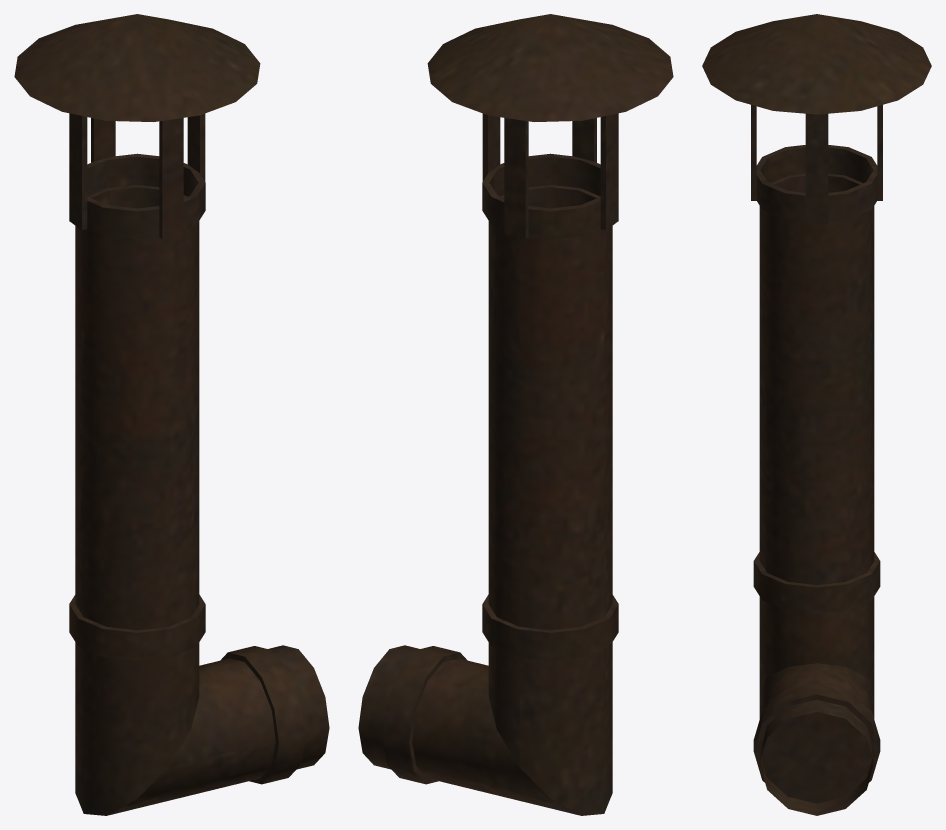
File: chimney_a_3.fbx
3 views of the same model, side by side, from view 1: azimuth 30°, elevation 25°; view 2: azimuth 150°, elevation 25°; view 3: azimuth 270°, elevation 25° (orthographic). The views are drawn at different scales.
Parts seen in each view (by area): view 1: chimney_a_3; view 2: chimney_a_3; view 3: chimney_a_3.
Boxes of the visible parts, x1,y1,x2,y2 form: chimney_a_3: [14, 14, 329, 815]; chimney_a_3: [358, 14, 673, 815]; chimney_a_3: [702, 14, 931, 815].
Size of the model in its own units: 0.5 by 0.4 by 1.41.
